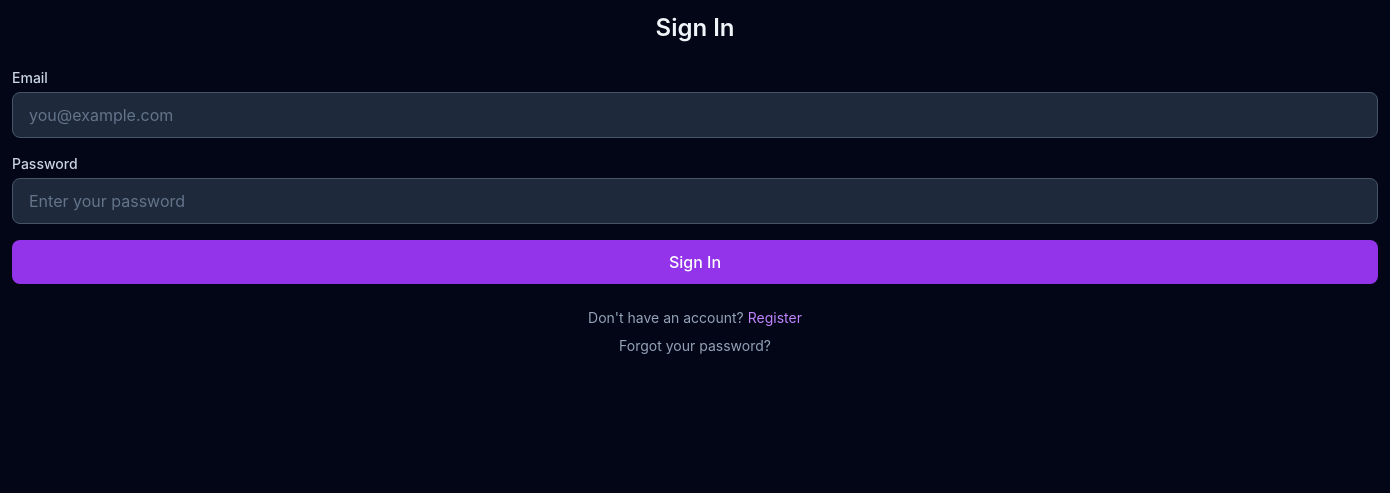
Test: LoginPage › verification hint links to check-email with encoded email
The image size is (1390, 493).
Type "user+test@example.com" into the field labelled "Email" at (695, 115), box [12, 92, 1378, 138]
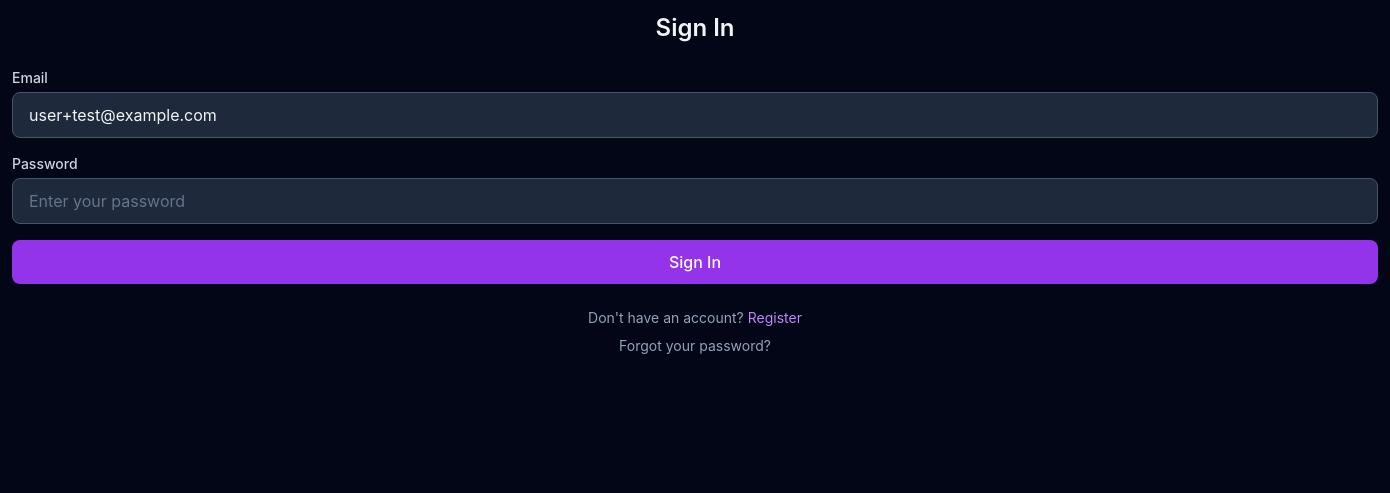
Type "password123" into the password field labelled "Password" at (695, 201), box [12, 178, 1378, 224]
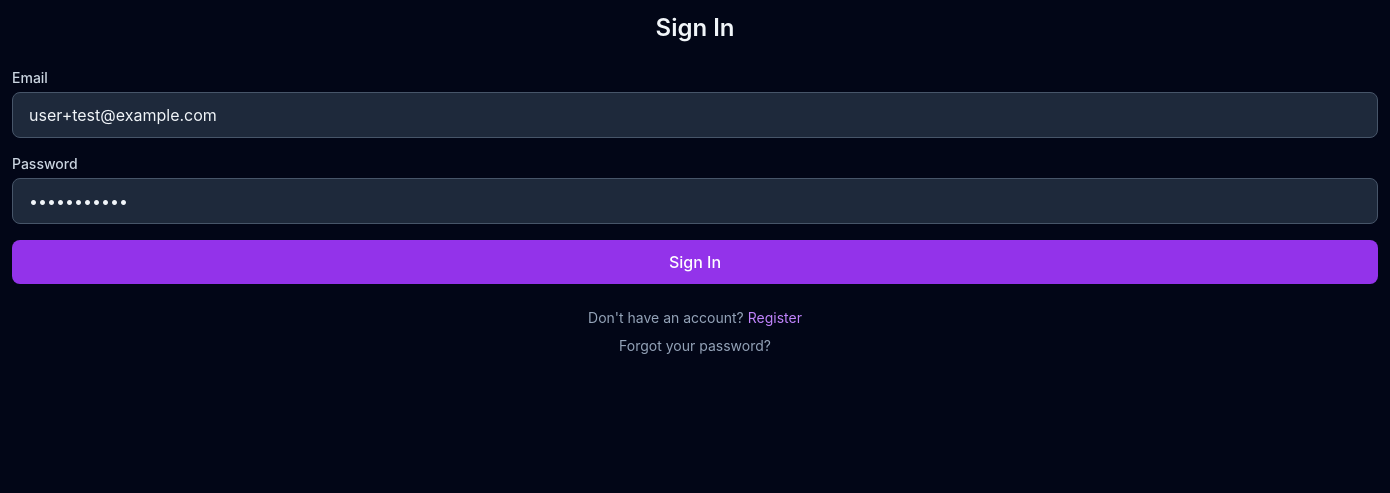
Click the button "Sign In" at (695, 262), box [12, 240, 1378, 284]
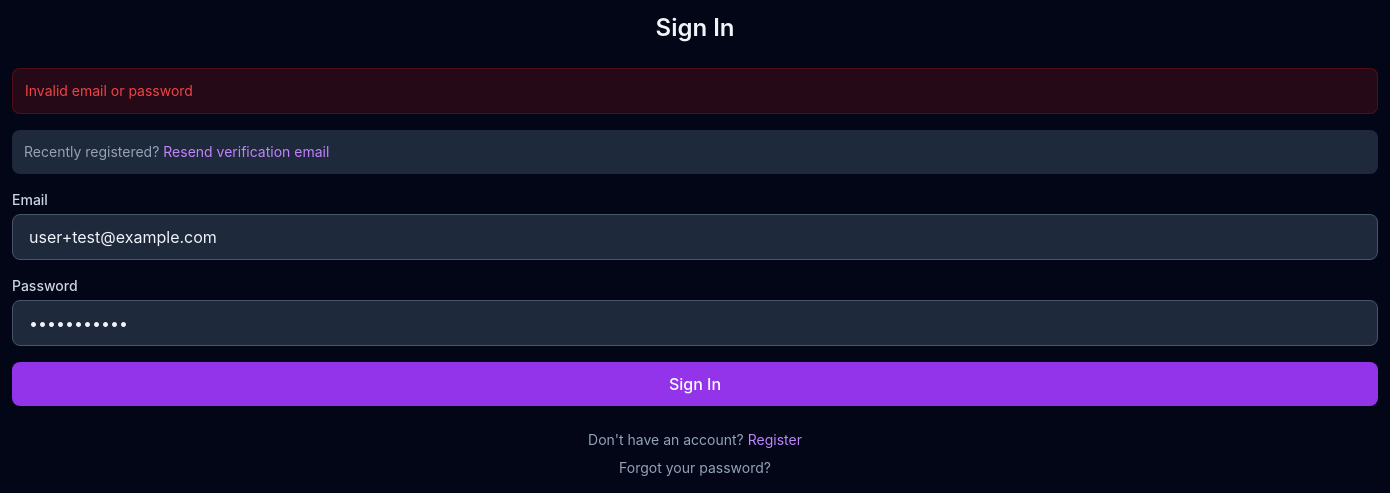
Expected: the link "Resend verification email" is shown, [163, 143, 329, 160]
